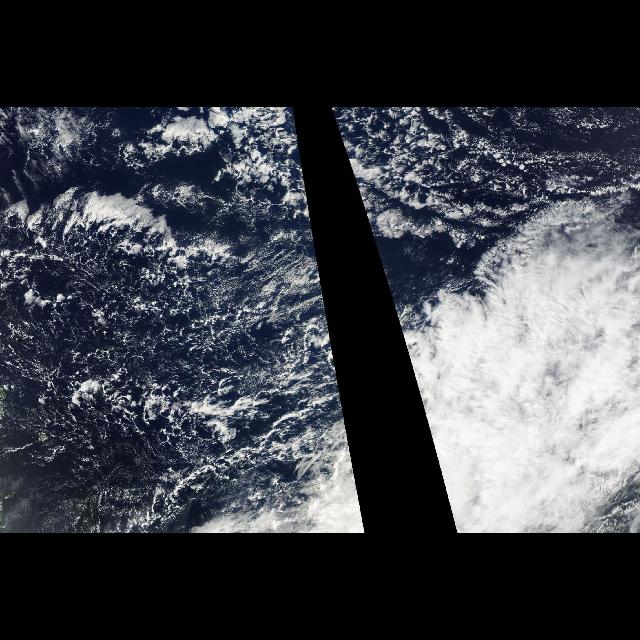Gravel: (0, 109, 296, 533), (332, 109, 640, 243)
